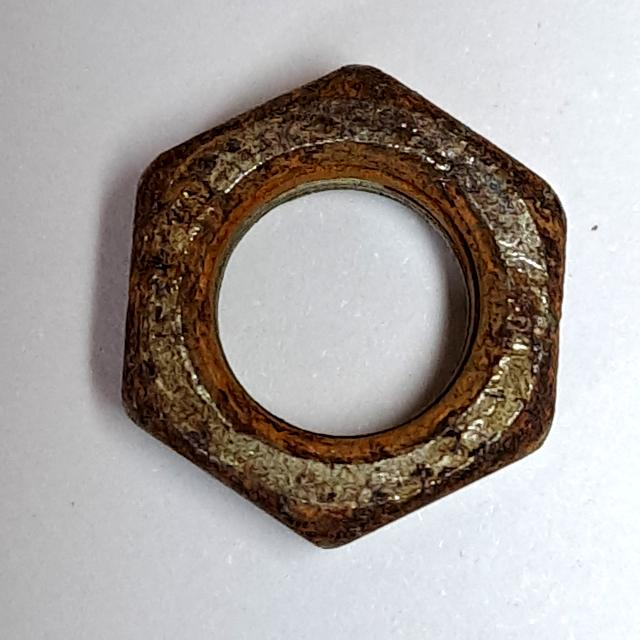Rust: (106, 44, 575, 567)
